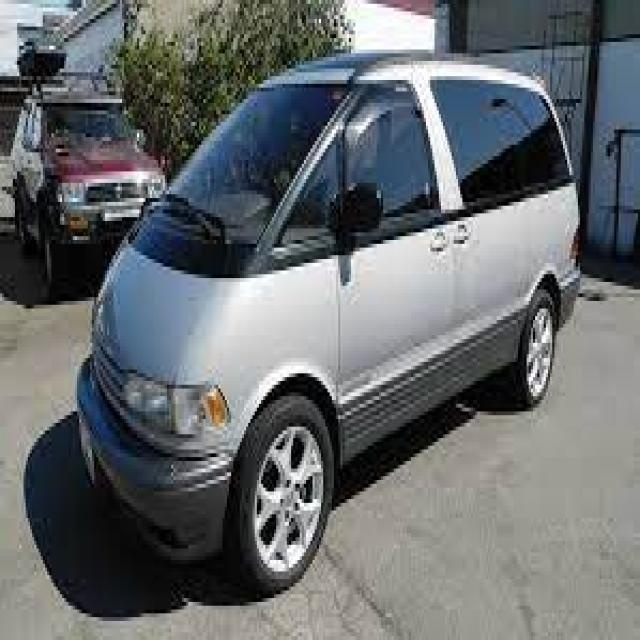Van: (64, 50, 580, 598)
